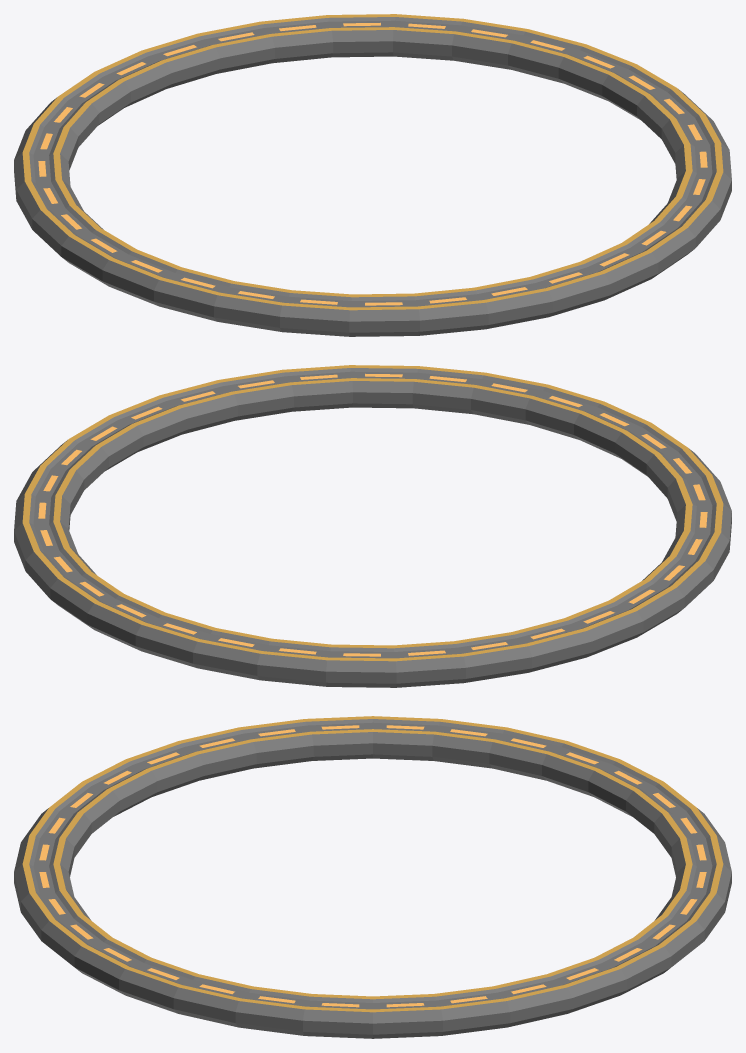
The model's file is gray_yellow_market.glb.
The picture shows the model from 3 angles, top to bottom: view 1: azimuth 30°, elevation 25°; view 2: azimuth 150°, elevation 25°; view 3: azimuth 270°, elevation 25°; orthographic projection.
Parts seen in each view (by area): view 1: Circle.001; view 2: Circle.001; view 3: Circle.001.
Part boxes in pixels (x1,y1,x2,y2): Circle.001: (14, 14, 731, 336); Circle.001: (14, 365, 731, 687); Circle.001: (14, 716, 731, 1038).
Bounding box in the file's own units: 1.27 × 0.0519 × 1.27.
